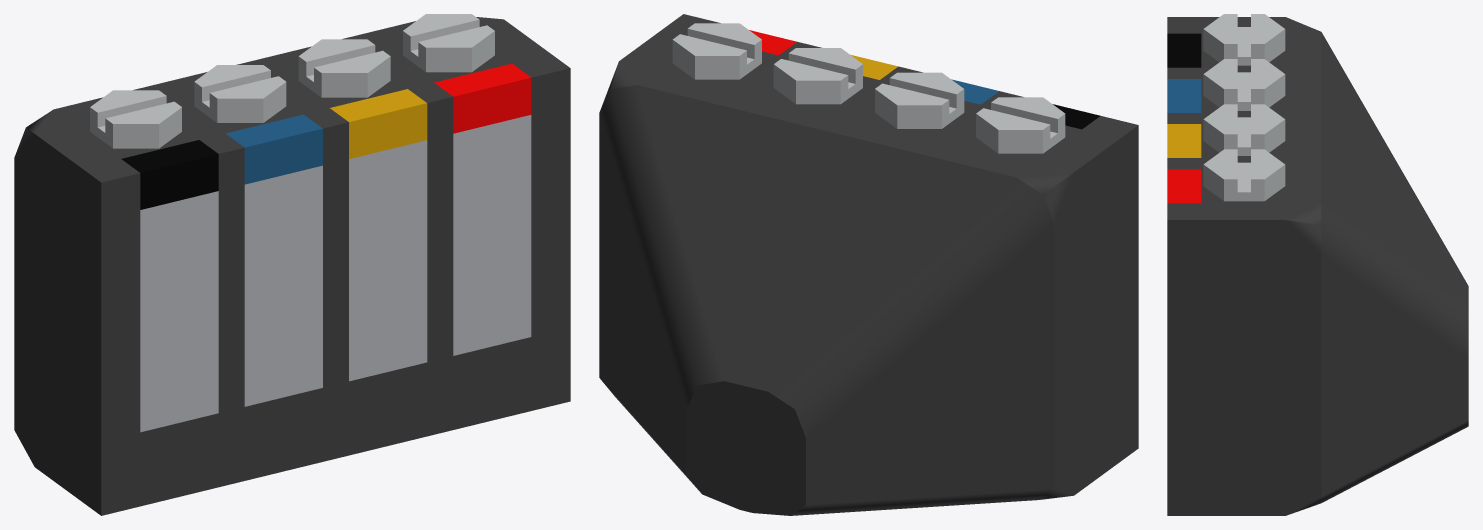
File: TerminalBlockFourConductor.fbx
3 renders of one model, left to right at view 1: azimuth 30°, elevation 25°; view 2: azimuth 150°, elevation 25°; view 3: azimuth 270°, elevation 25°, orthographic. The views are drawn at different scales.
Visible parts, largest first — view 1: TerminalBlockFourConductor; view 2: TerminalBlockFourConductor; view 3: TerminalBlockFourConductor.
Boxes of the visible parts, x1,y1,x2,y2 form: TerminalBlockFourConductor: (14,14,570,515); TerminalBlockFourConductor: (599,14,1138,515); TerminalBlockFourConductor: (1167,14,1468,515).
Size of the model in its own units: 20 by 14.58 by 12.54.
